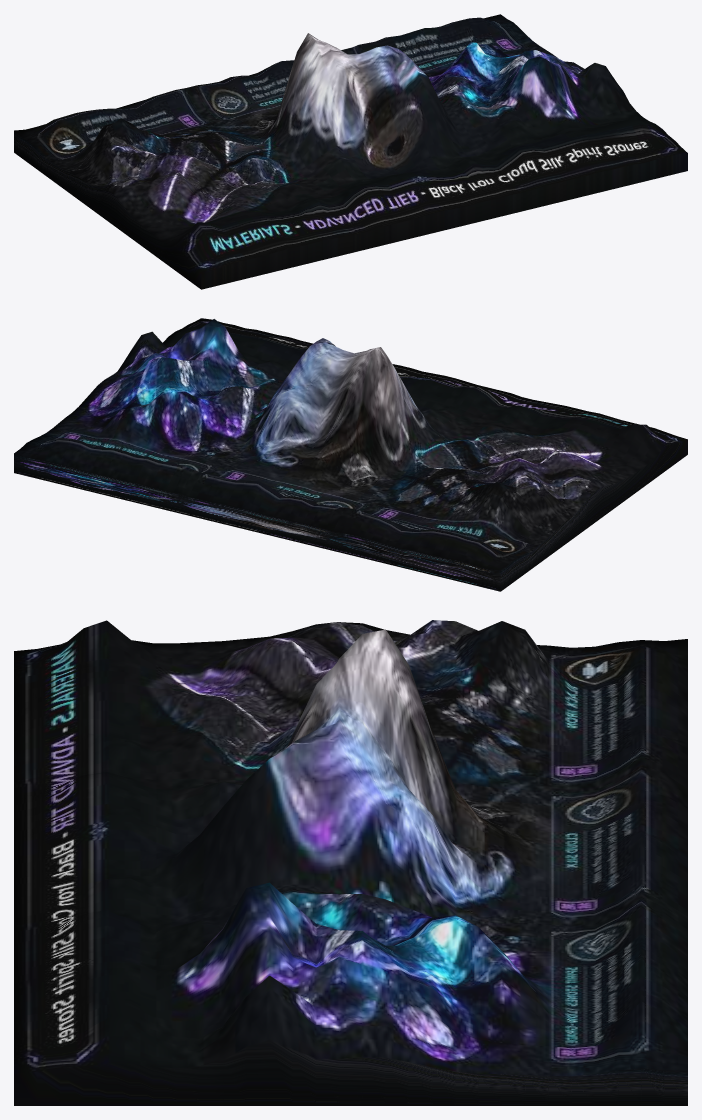
File: MATERIAL_Advanced_Tier.glb
3 renders of one model, top to bottom at view 1: azimuth 30°, elevation 25°; view 2: azimuth 150°, elevation 25°; view 3: azimuth 270°, elevation 25°, orthographic. The views are drawn at different scales.
Parts seen in each view (by area): view 1: MATERIAL_Advanced_Tier; view 2: MATERIAL_Advanced_Tier; view 3: MATERIAL_Advanced_Tier.
Part boxes in pixels (bbox=[...]): MATERIAL_Advanced_Tier: bbox=[14, 14, 687, 289]; MATERIAL_Advanced_Tier: bbox=[14, 318, 687, 591]; MATERIAL_Advanced_Tier: bbox=[14, 620, 687, 1105].
Size of the model in its own units: 2 by 0.51 by 1.33.
1 material, 1 textured.
